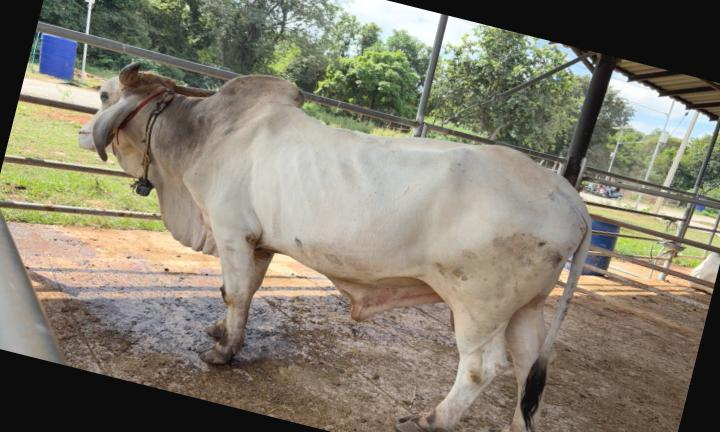Brahman: (79, 62, 590, 432)
